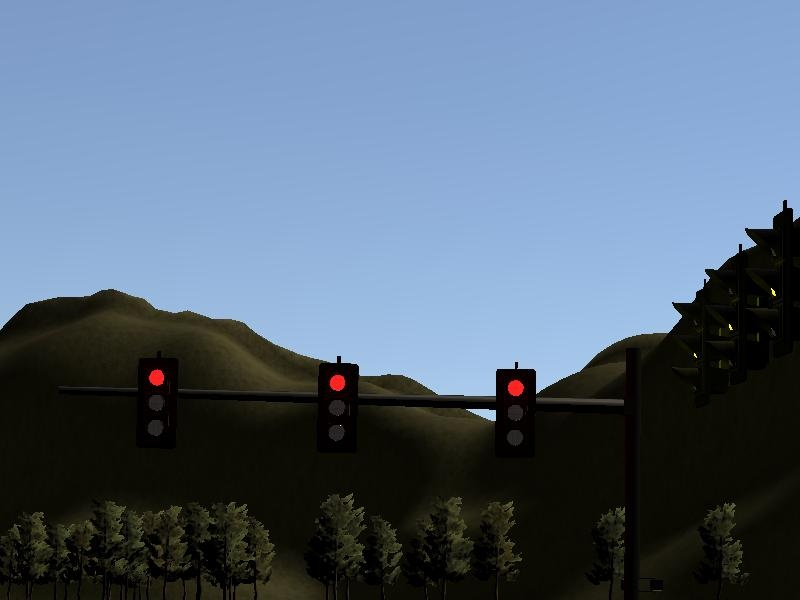RED: (317, 362, 360, 454), (495, 366, 538, 458), (134, 358, 177, 450)
